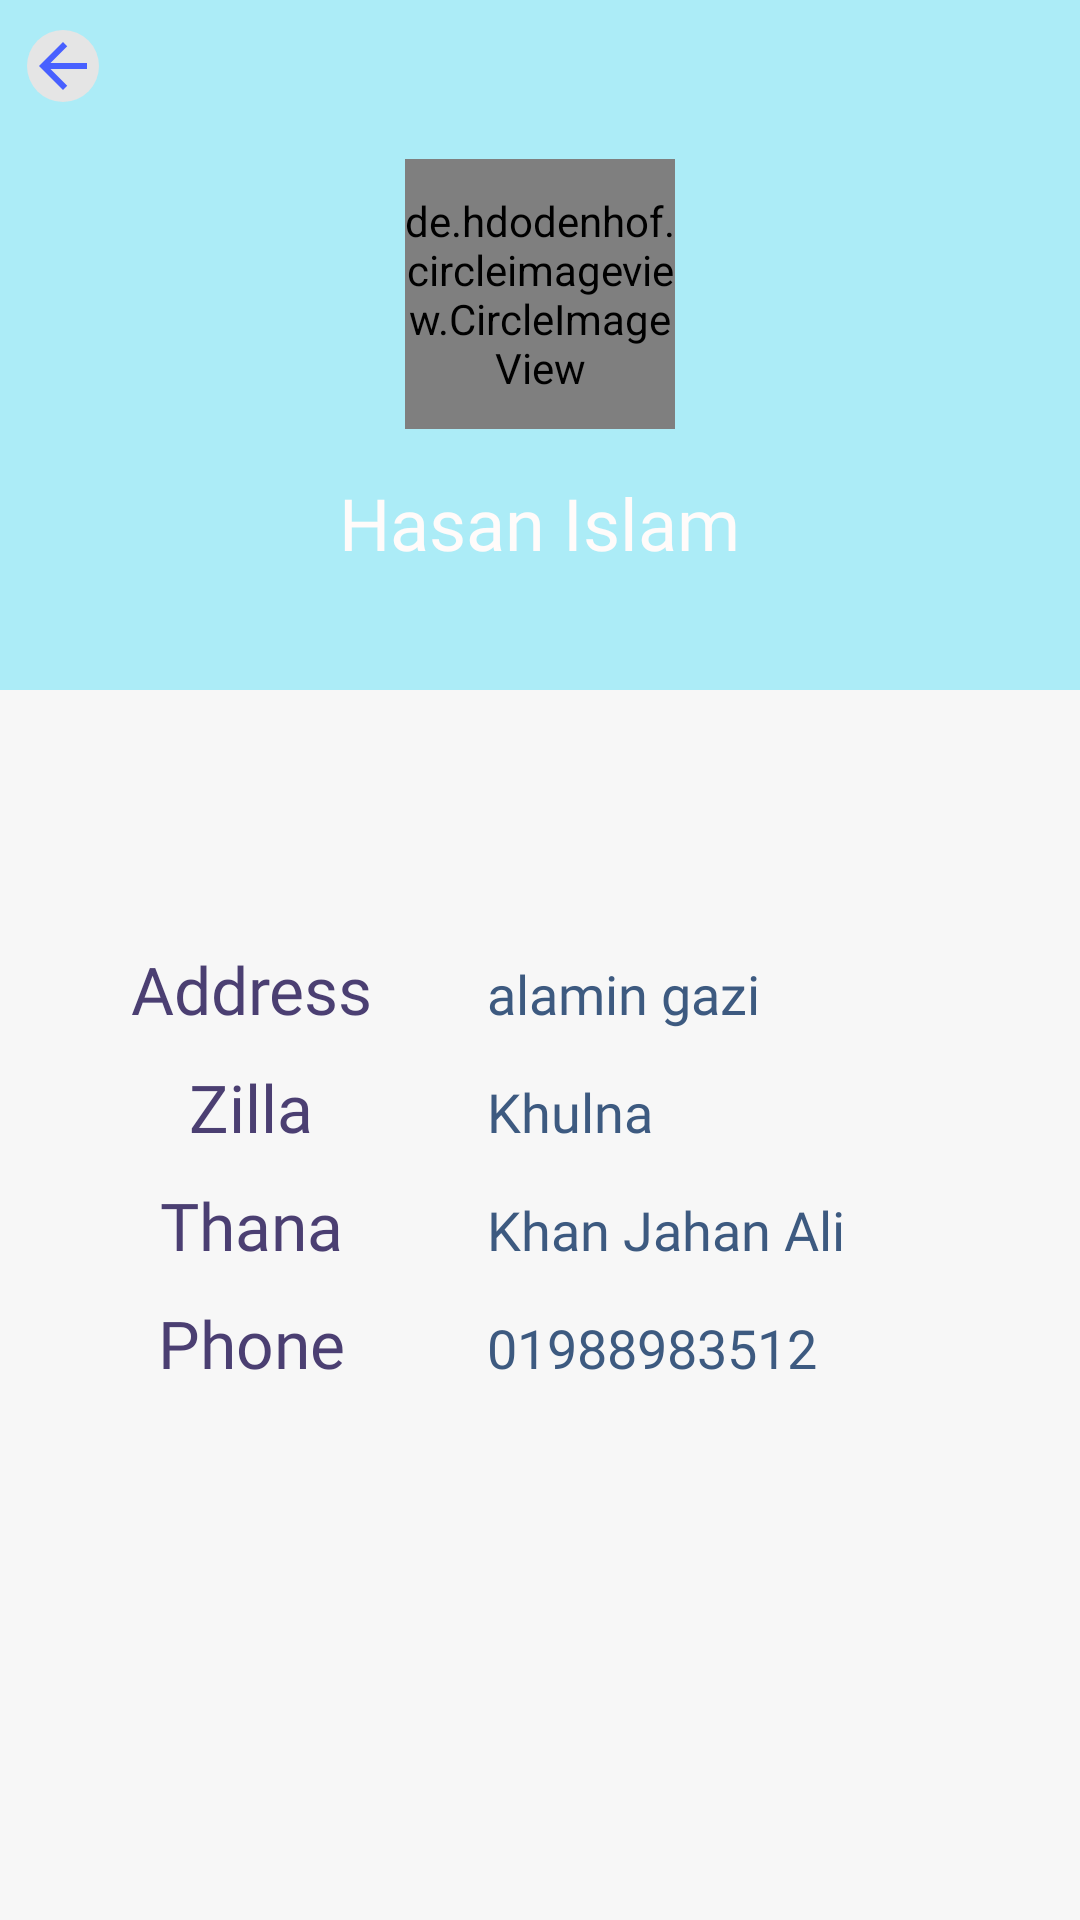

Icon bounding boxes for this 1080 × 1920 phone screenshot, format [x1, y1, x2, y2]:
back: [27, 30, 99, 102]
